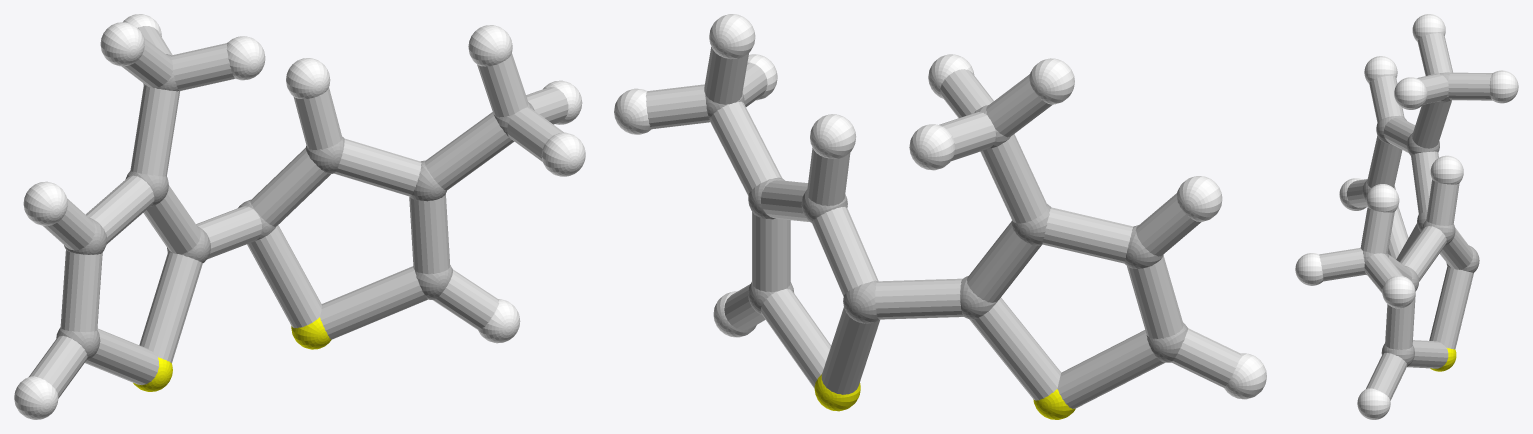
The model's file is Methylthiophene_Phi_50_Theta_190_Methylthiophene.glb.
3 renders of one model, left to right at view 1: azimuth 30°, elevation 25°; view 2: azimuth 150°, elevation 25°; view 3: azimuth 270°, elevation 25°, orthographic. The views are drawn at different scales.
Parts seen in each view (by area): view 1: grp7965, grp3621, grp1, grp7241; view 2: grp7965, grp3621, grp1, grp7241; view 3: grp7965, grp3621, grp1, grp7241.
Part boxes in pixels (box(x1,y1,x2,y2)): grp7965: box(29, 26, 568, 398); grp3621: box(14, 14, 585, 419); grp1: box(56, 54, 534, 360); grp7241: box(133, 317, 331, 391); grp7965: box(646, 47, 1241, 408); grp3621: box(614, 14, 1266, 399); grp1: box(705, 93, 1187, 362); grp7241: box(814, 374, 1075, 419); grp7965: box(1319, 33, 1492, 400); grp3621: box(1295, 14, 1518, 419); grp1: box(1362, 72, 1479, 366); grp7241: box(1430, 347, 1456, 371).
Bounding box in the file's own units: 9.22 × 5.62 × 4.03.
